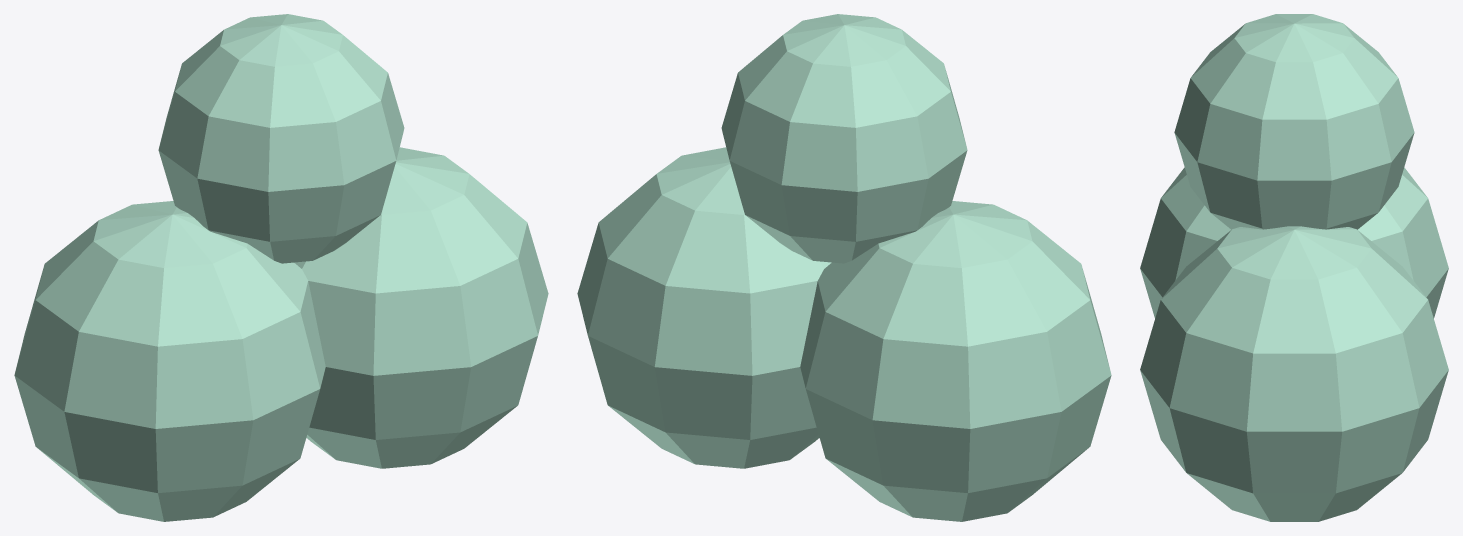
File: prp_food_token_b.glb
3 renders of one model, left to right at view 1: azimuth 30°, elevation 25°; view 2: azimuth 150°, elevation 25°; view 3: azimuth 270°, elevation 25°, orthographic. The views are drawn at different scales.
Parts seen in each view (by area): view 1: prp_food_token_b_0, prp_food_token_b_1, prp_food_token_b_2; view 2: prp_food_token_b_0, prp_food_token_b_1, prp_food_token_b_2; view 3: prp_food_token_b_1, prp_food_token_b_2, prp_food_token_b_0.
Boxes of the visible parts, <box> form: prp_food_token_b_0: <box>14,201,325,521</box>; prp_food_token_b_1: <box>294,147,548,468</box>; prp_food_token_b_2: <box>158,14,404,263</box>; prp_food_token_b_0: <box>800,201,1111,521</box>; prp_food_token_b_1: <box>577,147,831,468</box>; prp_food_token_b_2: <box>721,14,967,263</box>; prp_food_token_b_1: <box>1140,226,1448,521</box>; prp_food_token_b_2: <box>1174,14,1414,229</box>; prp_food_token_b_0: <box>1140,167,1448,318</box>.
Bounding box in the file's own units: 0.3112 × 0.28 × 0.18.
